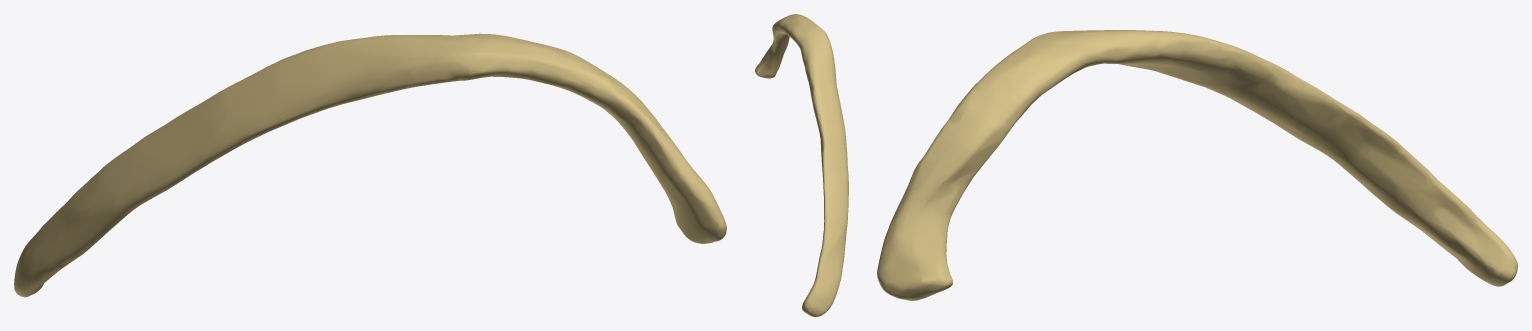
The picture shows the model from 3 angles, left to right: view 1: azimuth 30°, elevation 25°; view 2: azimuth 150°, elevation 25°; view 3: azimuth 270°, elevation 25°; orthographic projection. The views are drawn at different scales.
Parts seen in each view (by area): view 1: 右侧第十一肋; view 2: 右侧第十一肋; view 3: 右侧第十一肋.
Part boxes in pixels (x1,y1,x2,y2): 右侧第十一肋: (14, 33, 726, 297); 右侧第十一肋: (755, 14, 848, 316); 右侧第十一肋: (877, 30, 1517, 300).
Bounding box in the file's own units: 0.1471 × 0.1196 × 0.1945.
